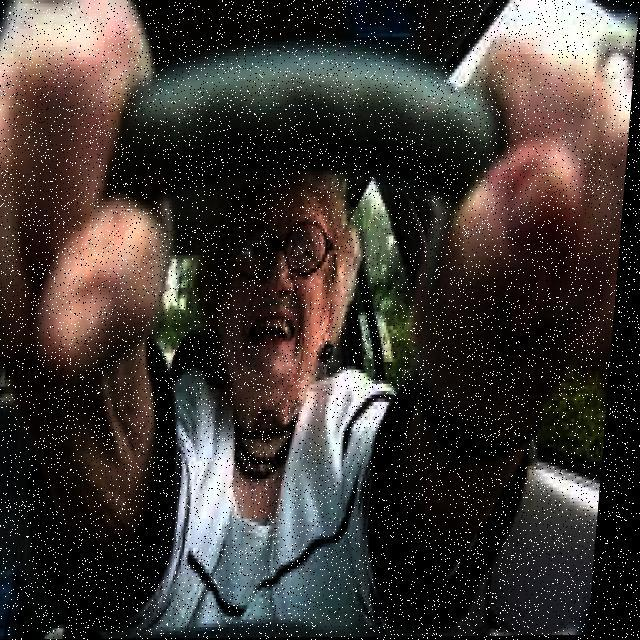noSeatbelt: (143, 384, 400, 638)
